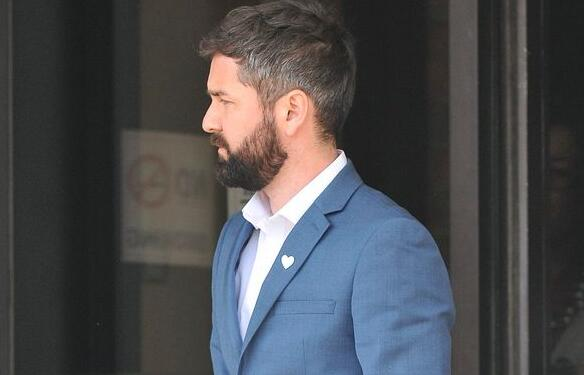face: (199, 48, 296, 176)
